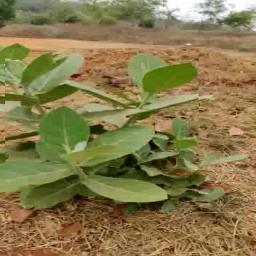CALOTROPIS: (6, 49, 200, 210)
